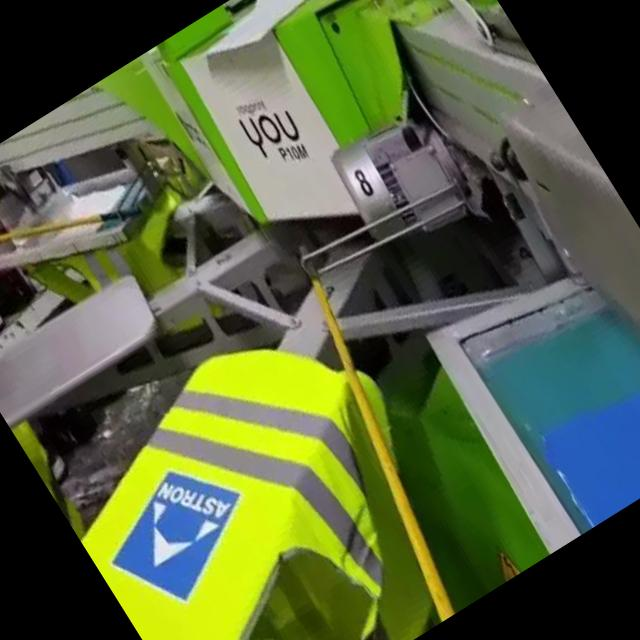safety_vest: (32, 285, 504, 640)
